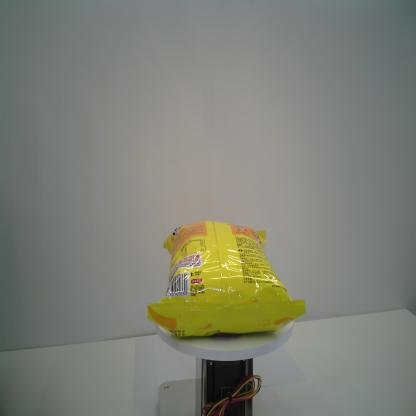Puffed Food: (146, 220, 306, 338)
